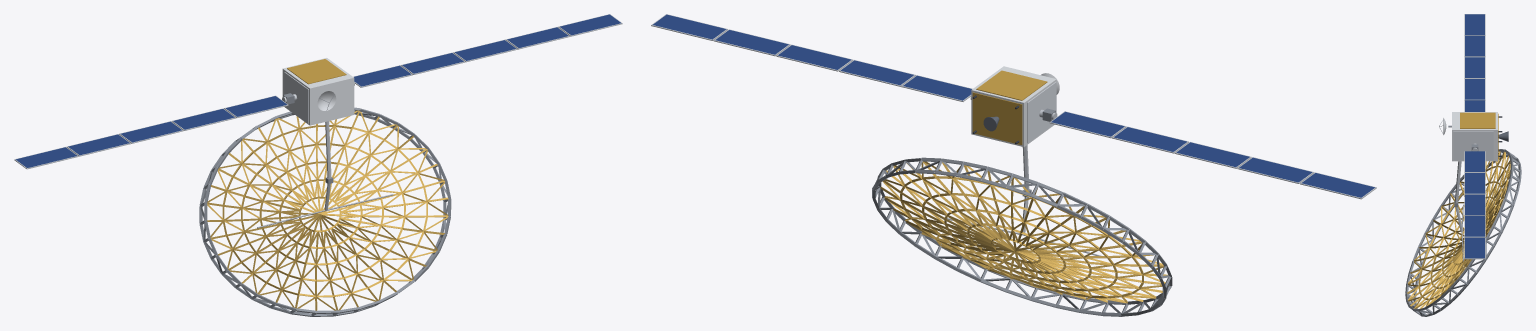
Rendered from thuraya.glb.
The picture shows the model from 3 angles, left to right: view 1: azimuth 30°, elevation 25°; view 2: azimuth 150°, elevation 25°; view 3: azimuth 270°, elevation 25°; orthographic projection. The views are drawn at different scales.
Parts seen in each view (by area): view 1: foil, body, solar-panel; view 2: foil, body, solar-panel; view 3: body, foil, solar-panel.
Part boxes in pixels (<box>): foil: <box>207,59,448,310</box>; body: <box>14,14,622,316</box>; solar-panel: <box>15,14,621,167</box>; foil: <box>880,70,1168,303</box>; body: <box>651,14,1376,316</box>; solar-panel: <box>653,14,1374,197</box>; body: <box>1405,14,1521,316</box>; foil: <box>1407,112,1510,308</box>; solar-panel: <box>1465,14,1484,258</box>.
Bounding box in the file's own units: 40.3 × 13.85 × 8.11.
